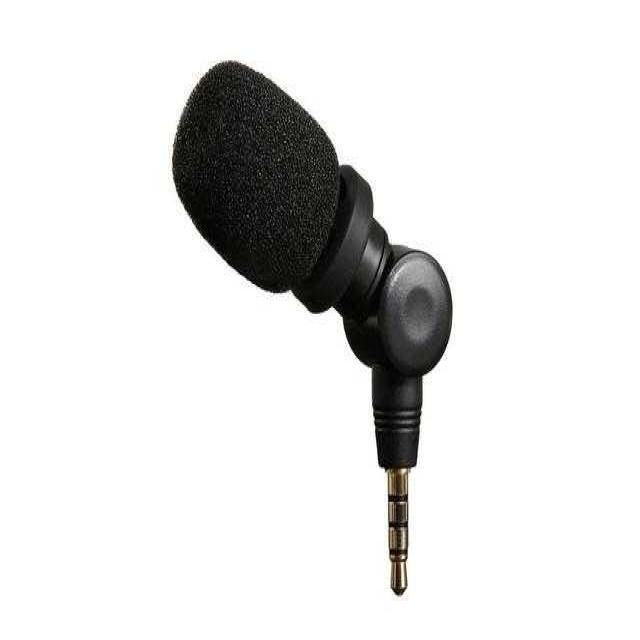microphone: (170, 54, 359, 297)
